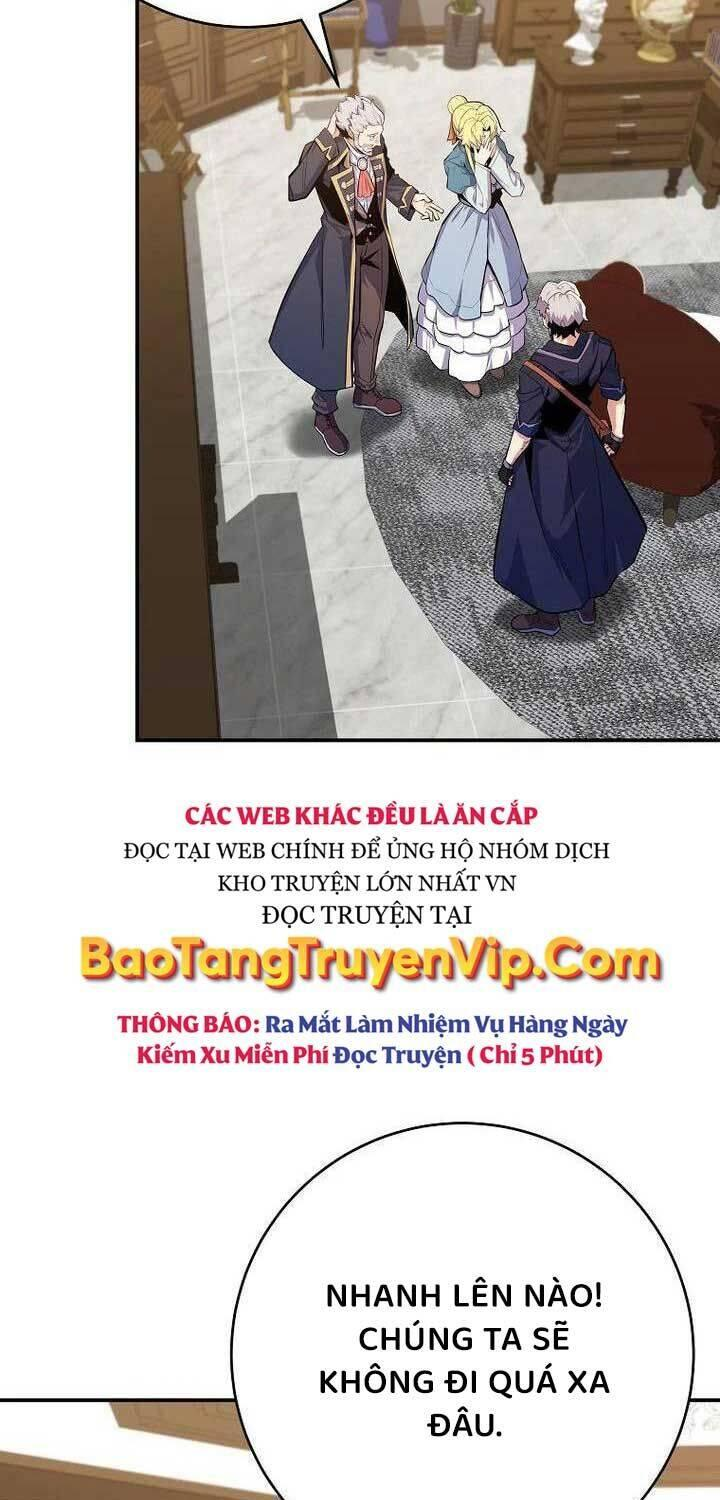quangcao: (76, 798, 664, 1072)
